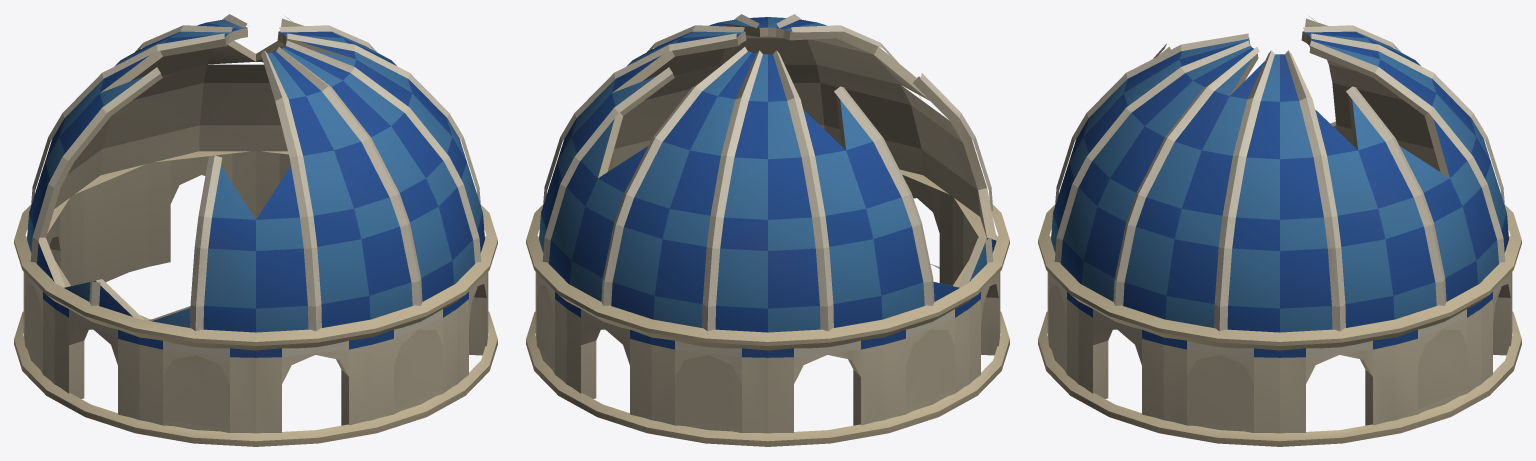
Rendered from dome.hall_ruin_12.blue.glb.
3 renders of one model, left to right at view 1: azimuth 30°, elevation 25°; view 2: azimuth 150°, elevation 25°; view 3: azimuth 270°, elevation 25°, orthographic.
Visible parts, largest first — view 1: dome_hall_ruin_12_blue; view 2: dome_hall_ruin_12_blue; view 3: dome_hall_ruin_12_blue.
Boxes of the visible parts, left/top/right/bottom form: dome_hall_ruin_12_blue: left=14, top=14, right=497, bottom=446; dome_hall_ruin_12_blue: left=526, top=14, right=1009, bottom=446; dome_hall_ruin_12_blue: left=1038, top=16, right=1521, bottom=446.
Size of what is drawn, in the model's own units: 15.2 by 10.67 by 15.2.
